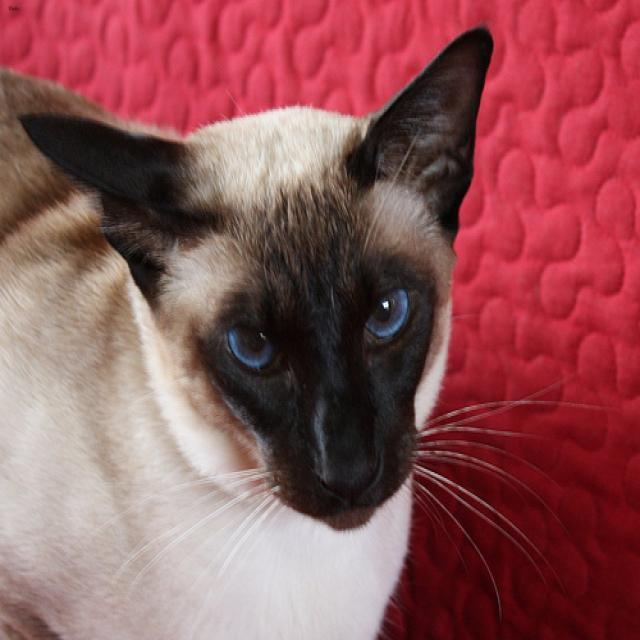Siamese: (17, 23, 492, 525)
